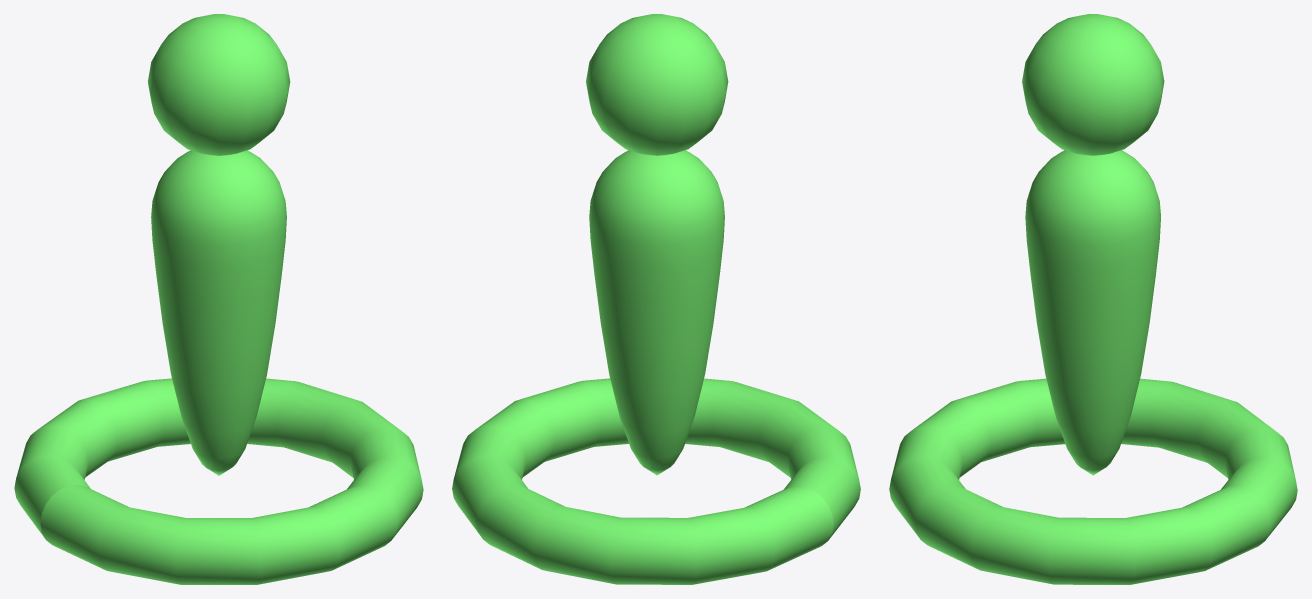
Rendered from pilot_icon.glb.
3 views of the same model, side by side, from view 1: azimuth 30°, elevation 25°; view 2: azimuth 150°, elevation 25°; view 3: azimuth 270°, elevation 25° (orthographic).
Visible parts, largest first — view 1: mesh02, mesh01, sphere01; view 2: mesh02, mesh01, sphere01; view 3: mesh02, mesh01, sphere01.
Boxes of the visible parts, x1,y1,x2,y2 form: mesh02: [14, 378, 423, 584]; mesh01: [151, 150, 286, 475]; sphere01: [147, 14, 290, 155]; mesh02: [452, 378, 860, 584]; mesh01: [589, 150, 724, 475]; sphere01: [586, 14, 728, 155]; mesh02: [889, 378, 1297, 584]; mesh01: [1025, 150, 1160, 475]; sphere01: [1022, 14, 1164, 155].
Bounding box in the file's own units: 0.8521 × 1.14 × 0.8557.
